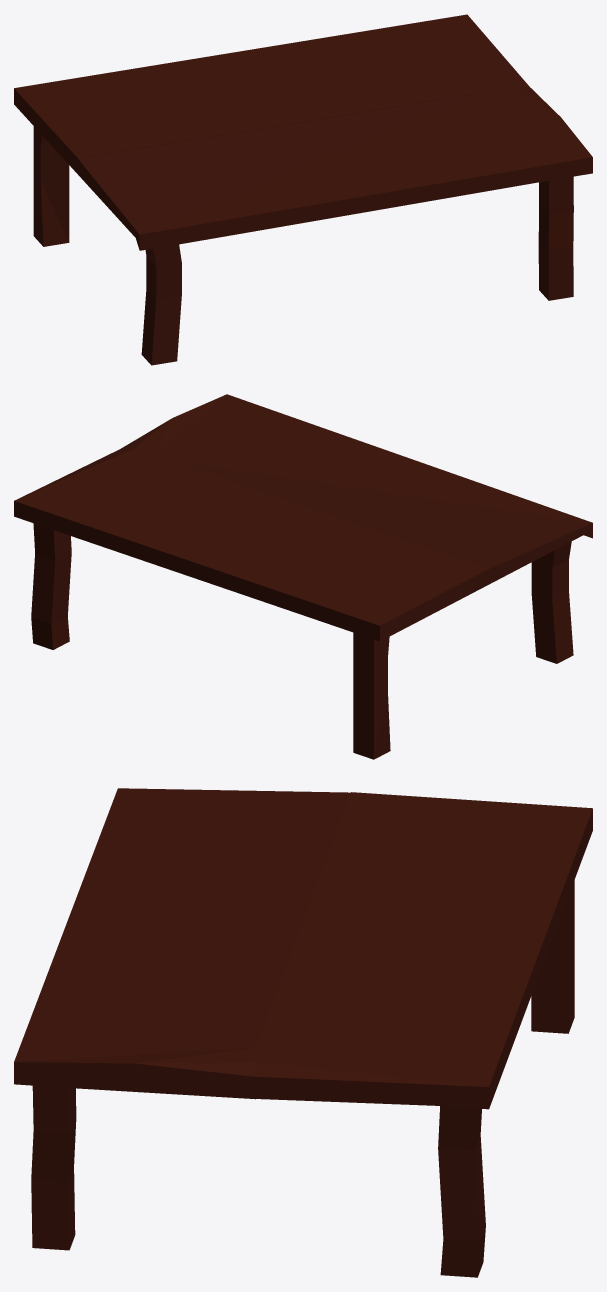
The model's file is meja.obj.
The picture shows the model from 3 angles, top to bottom: view 1: azimuth 30°, elevation 25°; view 2: azimuth 150°, elevation 25°; view 3: azimuth 270°, elevation 25°; orthographic projection. The views are drawn at different scales.
Parts seen in each view (by area): view 1: Plane.006_Plane.007; view 2: Plane.006_Plane.007; view 3: Plane.006_Plane.007.
Boxes of the visible parts, x1,y1,x2,y2 form: Plane.006_Plane.007: (14,14,592,365); Plane.006_Plane.007: (14,394,592,759); Plane.006_Plane.007: (14,788,592,1277).
Bounding box in the file's own units: 3.34 × 1.01 × 2.63.
